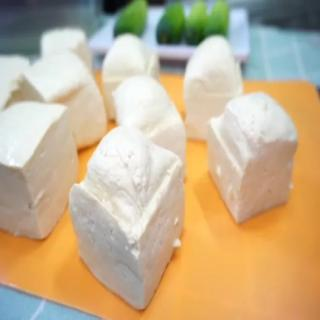Tahu: (55, 119, 204, 314), (200, 81, 304, 234)
